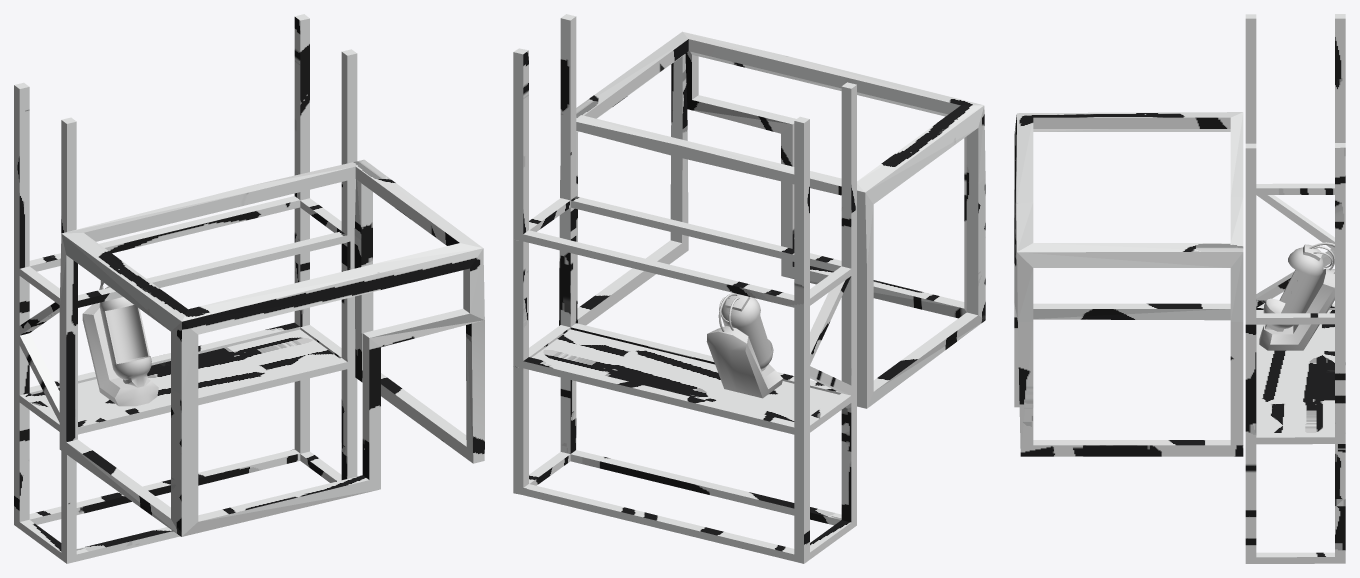
File: 4 texturing.FBX
The picture shows the model from 3 angles, left to right: view 1: azimuth 30°, elevation 25°; view 2: azimuth 150°, elevation 25°; view 3: azimuth 270°, elevation 25°; orthographic projection. The views are drawn at different scales.
Visible parts, largest first — view 1: Object122, Object119, Object121; view 2: Object119, Object122, Object121; view 3: Object122, Object119, Object121.
Boxes of the visible parts, x1=… form: Object122: x1=59, y1=159, x2=484, y2=536; Object119: x1=14, y1=14, x2=357, y2=563; Object121: x1=82, y1=280, x2=158, y2=406; Object119: x1=513, y1=14, x2=856, y2=563; Object122: x1=559, y1=31, x2=985, y2=408; Object121: x1=706, y1=292, x2=783, y2=398; Object122: x1=1014, y1=112, x2=1243, y2=456; Object119: x1=1245, y1=14, x2=1345, y2=563; Object121: x1=1259, y1=242, x2=1334, y2=350.
Bounding box in the file's own units: 13.3 × 18.23 × 13.14.
